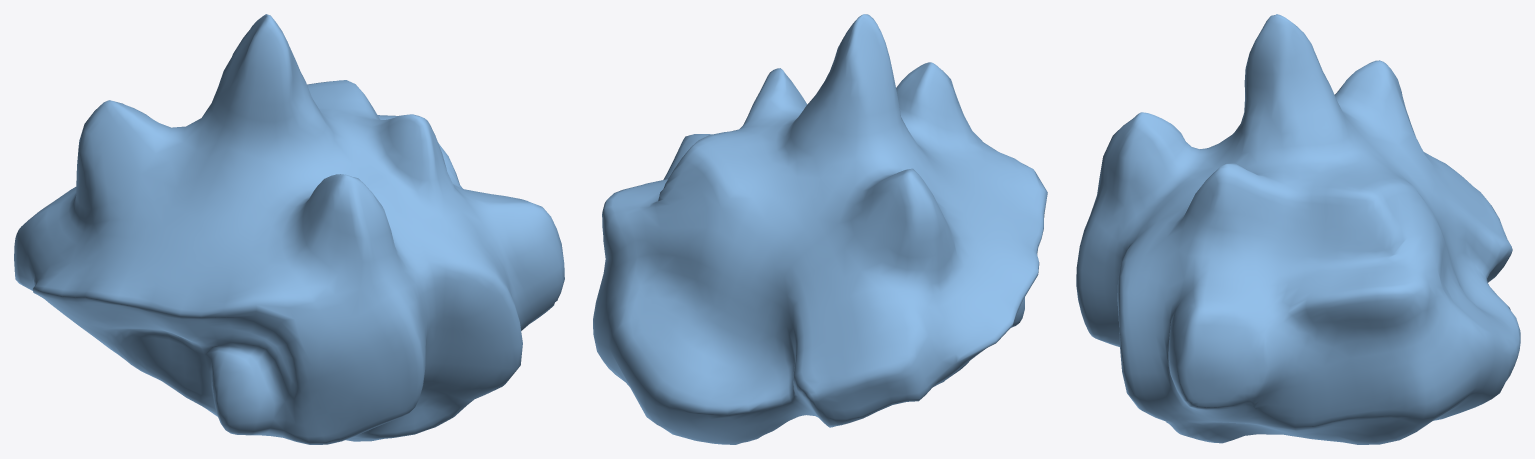
File: Iceburg5.fbx
3 renders of one model, left to right at view 1: azimuth 30°, elevation 25°; view 2: azimuth 150°, elevation 25°; view 3: azimuth 270°, elevation 25°, orthographic. The views are drawn at different scales.
Parts seen in each view (by area): view 1: Retopo_Iceburg4_high; view 2: Retopo_Iceburg4_high; view 3: Retopo_Iceburg4_high.
Part boxes in pixels (x1,y1,x2,y2): Retopo_Iceburg4_high: (14, 14, 564, 444); Retopo_Iceburg4_high: (593, 14, 1047, 444); Retopo_Iceburg4_high: (1076, 14, 1520, 444).
Bounding box in the file's own units: 284 × 259 × 273.
